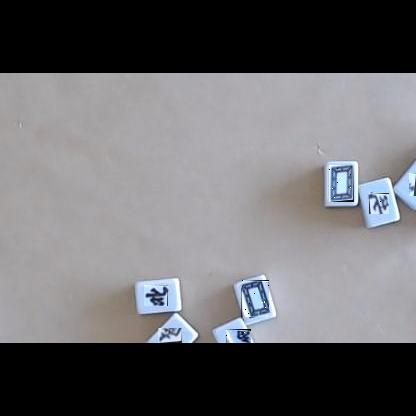1z: (226, 329, 251, 343)
2z: (158, 328, 182, 343)
4z: (144, 285, 168, 306), (369, 193, 389, 214), (409, 173, 416, 196)
5z: (241, 280, 269, 317), (329, 165, 354, 202)
